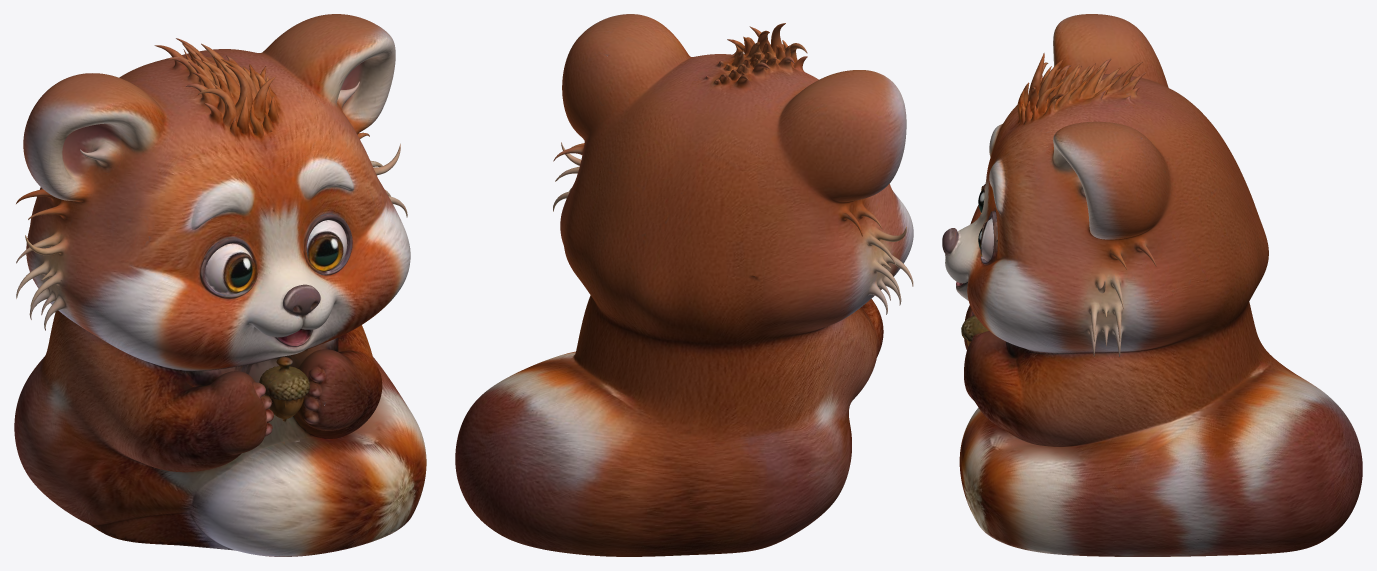
Rendered from panda.glb.
3 renders of one model, left to right at view 1: azimuth 30°, elevation 25°; view 2: azimuth 150°, elevation 25°; view 3: azimuth 270°, elevation 25°, orthographic. The views are drawn at different scales.
Visible parts, largest first — view 1: node_0; view 2: node_0; view 3: node_0.
Boxes of the visible parts, bbox=[...] form: node_0: bbox=[14, 14, 426, 556]; node_0: bbox=[455, 14, 913, 556]; node_0: bbox=[942, 14, 1362, 556].
Size of the model in its own units: 0.7399 by 0.8697 by 0.7887.
1 material, 1 textured.
